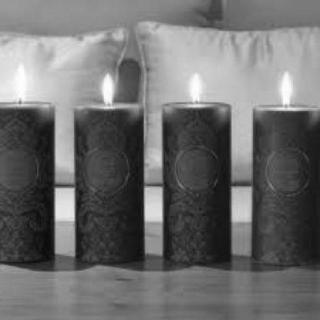Fire: (101, 69, 121, 107), (186, 69, 202, 105)
